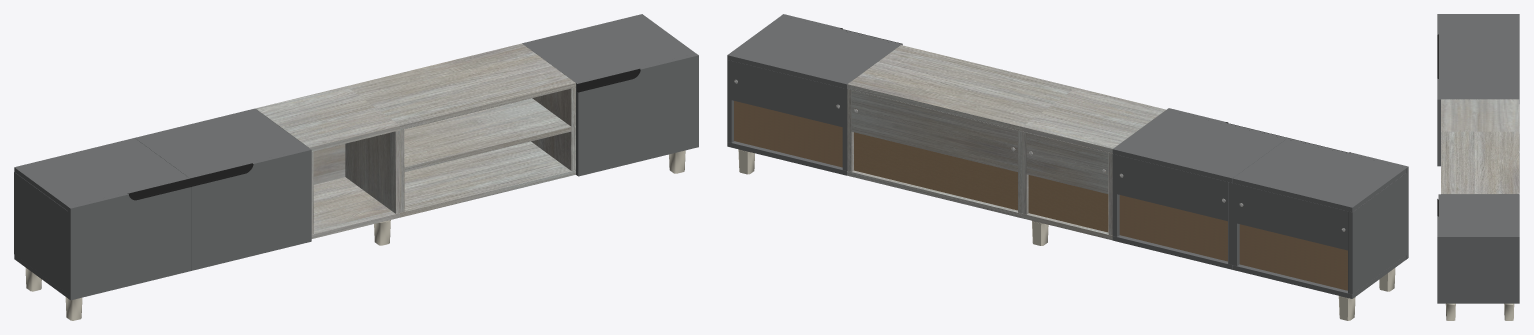
3 views of the same model, side by side, from view 1: azimuth 30°, elevation 25°; view 2: azimuth 150°, elevation 25°; view 3: azimuth 270°, elevation 25° (orthographic). The views are drawn at different scales.
Visible parts, largest first — view 1: group_0.148, group_0.094, group_0.151, group_0.146, group_0.145, Cube, Plane, group_0.114, group_0.152, group_0.147, group_0.149; view 2: group_0.094, group_0.148, group_0.146, group_0.151, group_0.145, Plane.002, group_0.150, group_0.153, group_0.144, Plane.001, group_0.114; view 3: group_0.151, group_0.094, group_0.146, group_0.148, group_0.145, group_0.154.
Part boxes in pixels (<box>): group_0.148: <box>14,138,190,300</box>; group_0.094: <box>346,43,575,217</box>; group_0.151: <box>522,14,698,176</box>; group_0.146: <box>135,108,311,270</box>; group_0.145: <box>255,86,399,238</box>; Cube: <box>404,98,571,171</box>; Plane: <box>313,144,345,184</box>; group_0.114: <box>25,267,82,320</box>; group_0.152: <box>577,68,640,92</box>; group_0.147: <box>190,163,253,186</box>; group_0.149: <box>127,178,190,200</box>; group_0.094: <box>847,45,1075,218</box>; group_0.148: <box>1232,138,1408,298</box>; group_0.146: <box>1112,108,1287,269</box>; group_0.151: <box>727,14,902,175</box>; group_0.145: <box>1022,87,1165,240</box>; Plane.002: <box>854,108,1017,210</box>; group_0.150: <box>1239,206,1347,290</box>; group_0.153: <box>734,101,842,167</box>; group_0.144: <box>1119,195,1227,261</box>; Plane.001: <box>1028,171,1108,232</box>; group_0.114: <box>1338,268,1395,320</box>; group_0.151: <box>1437,194,1519,303</box>; group_0.094: <box>1441,131,1519,194</box>; group_0.146: <box>1437,56,1519,166</box>; group_0.148: <box>1437,14,1519,56</box>; group_0.145: <box>1441,99,1519,193</box>; group_0.154: <box>1445,303,1514,320</box>.
Bounding box in the file's own units: 2.5 × 0.4532 × 0.391.
Materials: 11 (4 with a texture image).
